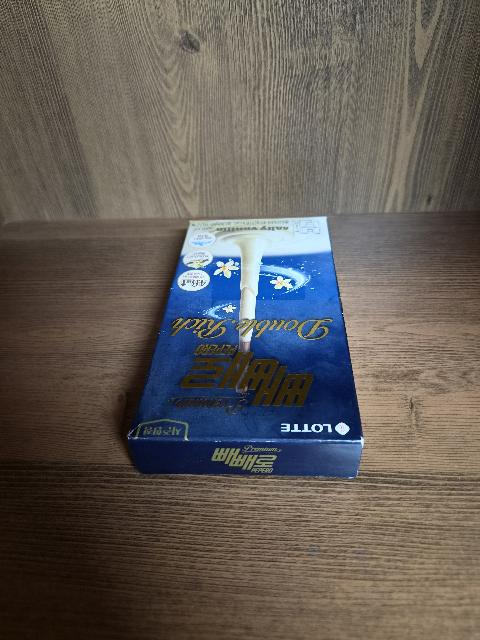pepero: (127, 216, 364, 479)
